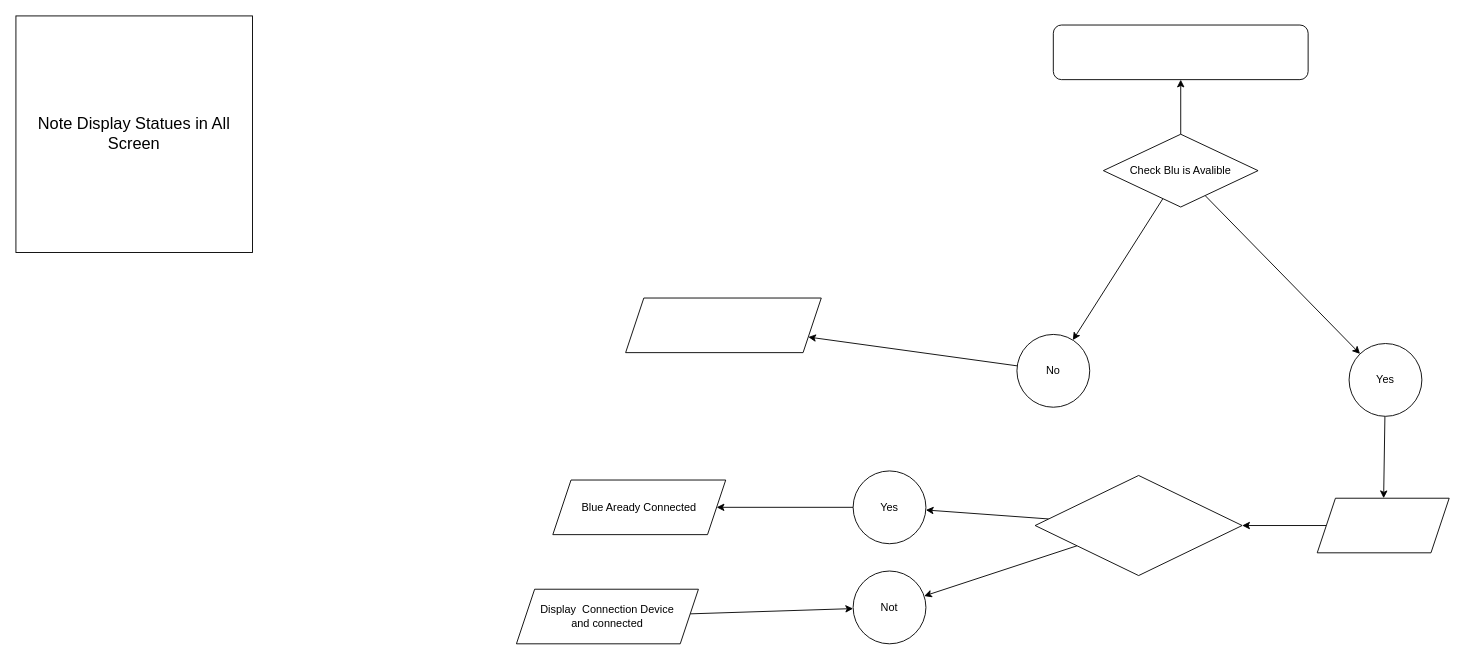
The diagram is 1465 pixels wide and 660 high, and some of its shapes have lost their labels. Here are the shapes that lost their labels. From the top down, the centre of each, then its label:
[1180,52]: Bluetooth Screen
[723,325]: Display Msg To Open Blue view to enable bluetooth
[1138,525]: Is Before Connected Device
[1382,525]: Connect To device
